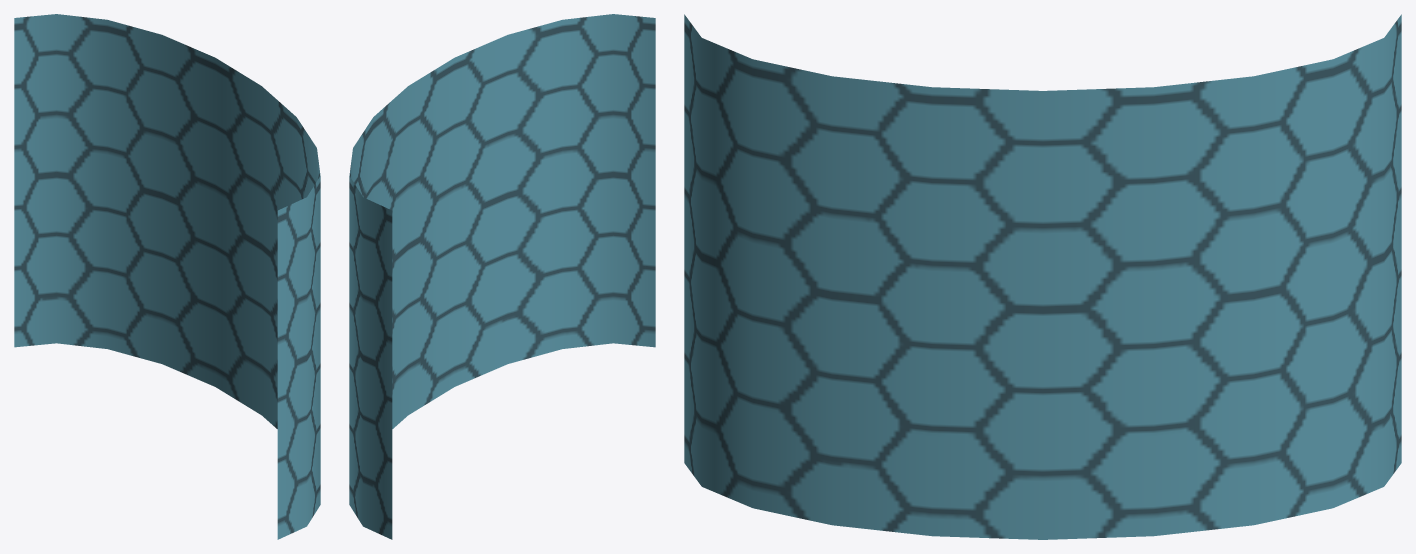
The model's file is shield_model.fbx.
3 renders of one model, left to right at view 1: azimuth 30°, elevation 25°; view 2: azimuth 150°, elevation 25°; view 3: azimuth 270°, elevation 25°, orthographic. The views are drawn at different scales.
Visible parts, largest first — view 1: pCylinder1; view 2: pCylinder1; view 3: pCylinder1.
Boxes of the visible parts, x1,y1,x2,y2 form: pCylinder1: (14,14,320,539); pCylinder1: (349,14,655,539); pCylinder1: (684,14,1401,539).
Size of the model in its own units: 0.4447 by 1.21 by 1.75.
Materials: 1 (1 with a texture image).
